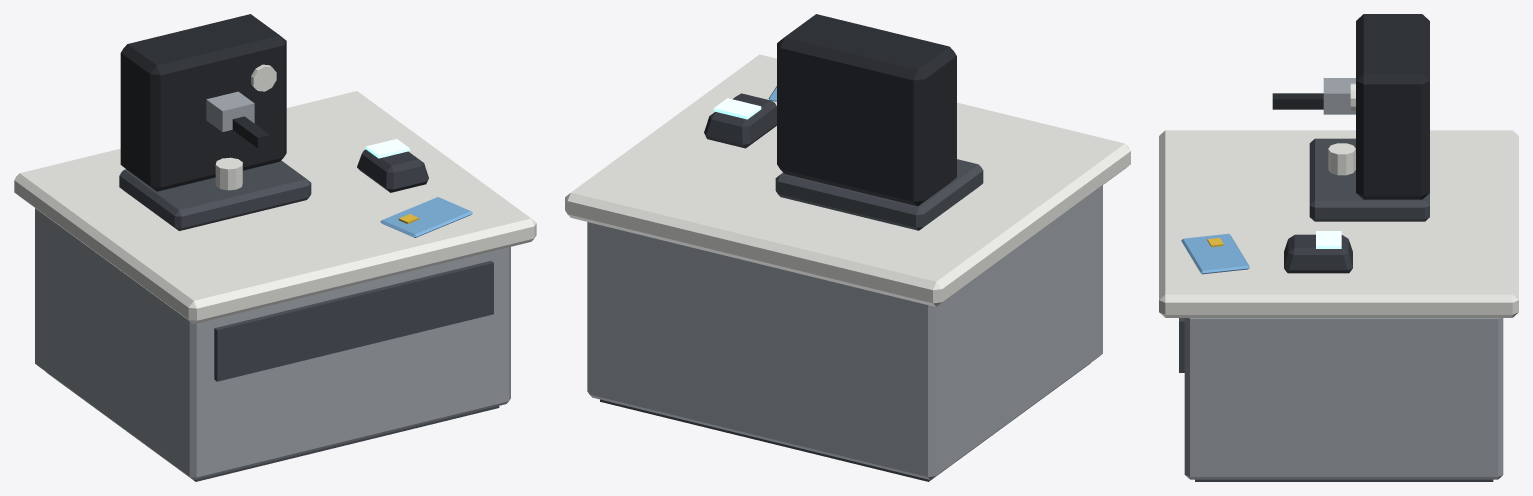
File: coffee_p1_3.glb
The picture shows the model from 3 angles, left to right: view 1: azimuth 30°, elevation 25°; view 2: azimuth 150°, elevation 25°; view 3: azimuth 270°, elevation 25°; orthographic projection. The views are drawn at different scales.
Visible parts, largest first — view 1: coffee_p1_3_mesh_Desk, coffee_p1_3_mesh; view 2: coffee_p1_3_mesh_Desk, coffee_p1_3_mesh; view 3: coffee_p1_3_mesh_Desk, coffee_p1_3_mesh.
Boxes of the visible parts, box(x1,y1,x2,y2) form: coffee_p1_3_mesh_Desk: box(14, 91, 536, 481); coffee_p1_3_mesh: box(119, 14, 472, 237); coffee_p1_3_mesh_Desk: box(565, 54, 1130, 481); coffee_p1_3_mesh: box(704, 14, 983, 230); coffee_p1_3_mesh_Desk: box(1159, 130, 1518, 481); coffee_p1_3_mesh: box(1181, 14, 1429, 274).
Size of the model in its own units: 0.78 by 0.735 by 0.7.
